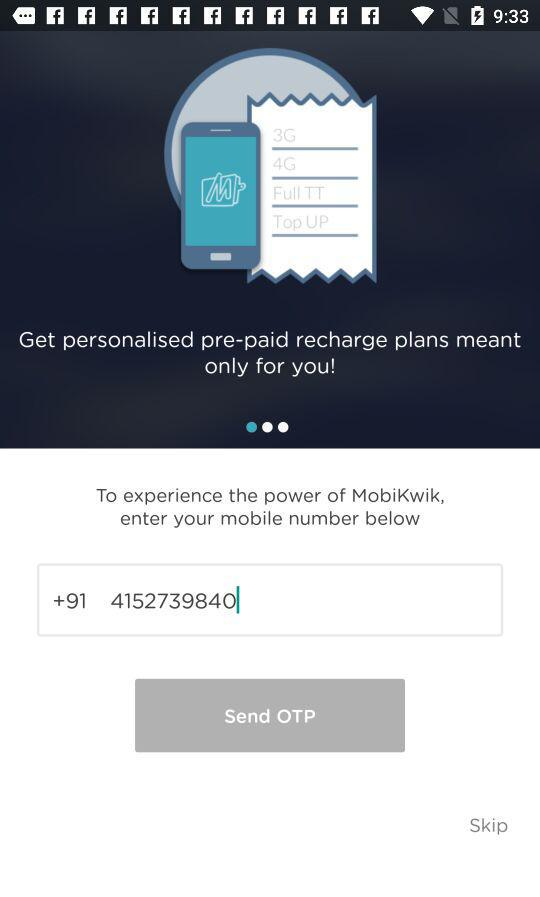EditText: (37, 564, 503, 638)
Image: (163, 48, 379, 288)
PageIndicator: (245, 421, 290, 435)
Text: (20, 331, 522, 379), (96, 488, 445, 529), (112, 593, 237, 610), (470, 817, 508, 835), (54, 593, 86, 610)
TextButton: (135, 679, 406, 753)
UpperTaskBar: (1, 1, 540, 33)
